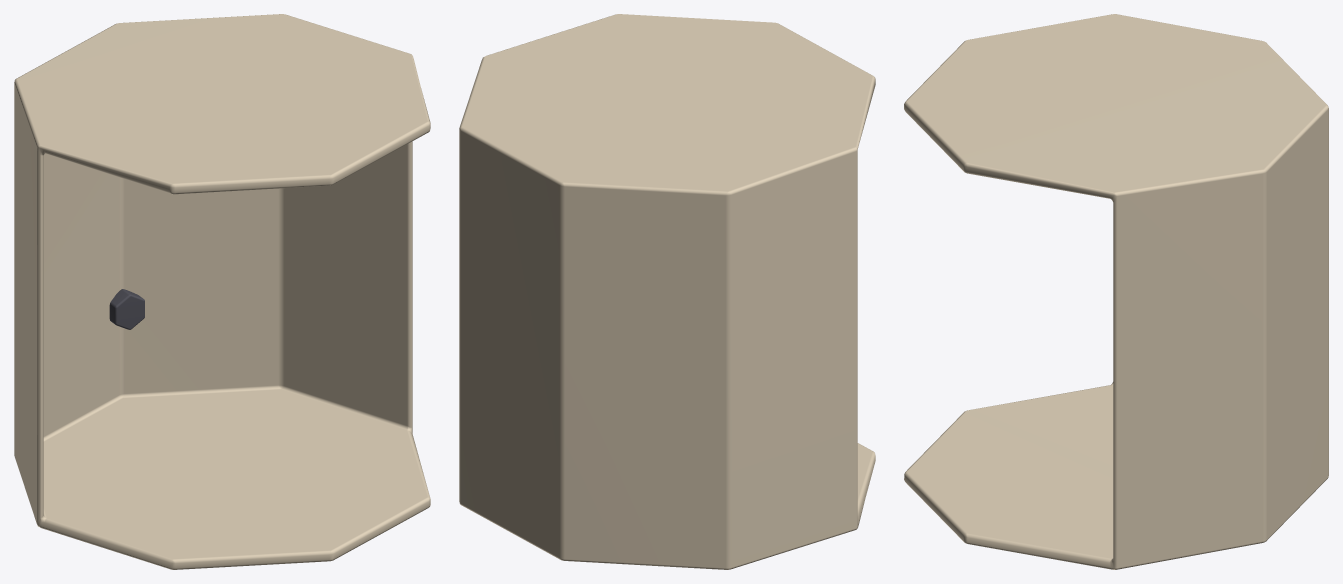
File: kitbash_shell_arm_right_001_upper.glb
The picture shows the model from 3 angles, left to right: view 1: azimuth 30°, elevation 25°; view 2: azimuth 150°, elevation 25°; view 3: azimuth 270°, elevation 25°; orthographic projection.
Parts seen in each view (by area): view 1: SHELL_armR_up; view 2: SHELL_armR_up; view 3: SHELL_armR_up.
Part boxes in pixels (x1,y1,x2,y2): SHELL_armR_up: [14, 14, 430, 569]; SHELL_armR_up: [459, 14, 875, 569]; SHELL_armR_up: [904, 14, 1328, 569].
Size of the model in its own units: 0.4298 by 0.424 by 0.428.
